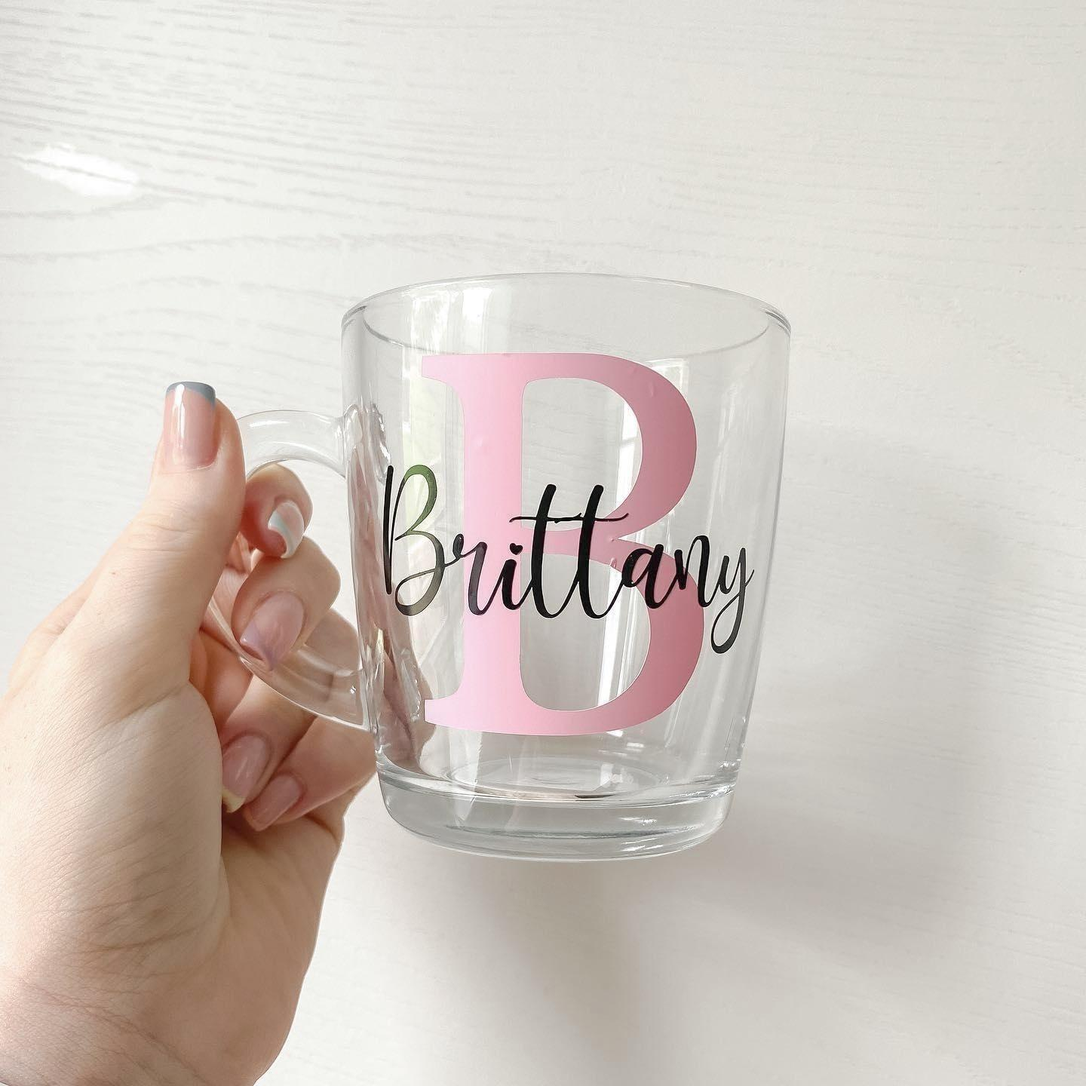glass-mug: (195, 262, 811, 873)
